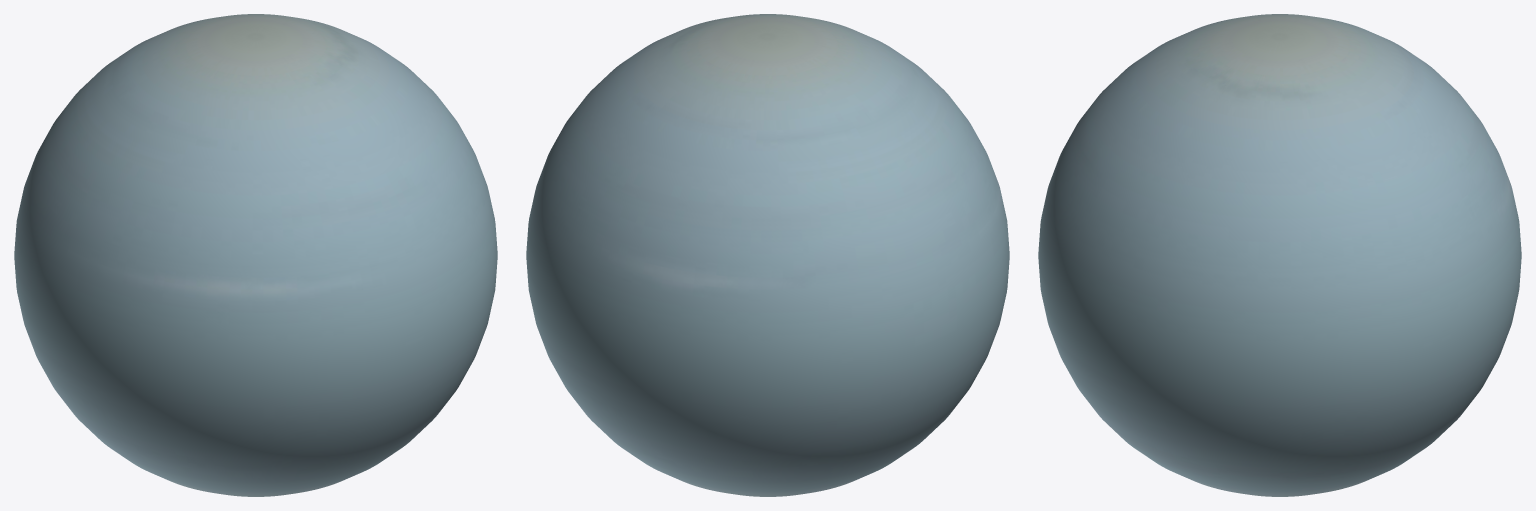
The model's file is sun.obj.
3 renders of one model, left to right at view 1: azimuth 30°, elevation 25°; view 2: azimuth 150°, elevation 25°; view 3: azimuth 270°, elevation 25°, orthographic.
Visible parts, largest first — view 1: Sphere_Material.002_0_Sphere_Material.002_0.009; view 2: Sphere_Material.002_0_Sphere_Material.002_0.009; view 3: Sphere_Material.002_0_Sphere_Material.002_0.009.
Boxes of the visible parts, left/top/right/bottom form: Sphere_Material.002_0_Sphere_Material.002_0.009: left=14, top=14, right=497, bottom=496; Sphere_Material.002_0_Sphere_Material.002_0.009: left=526, top=14, right=1009, bottom=496; Sphere_Material.002_0_Sphere_Material.002_0.009: left=1038, top=14, right=1521, bottom=496.
Bounding box in the file's own units: 200 × 200 × 200.
